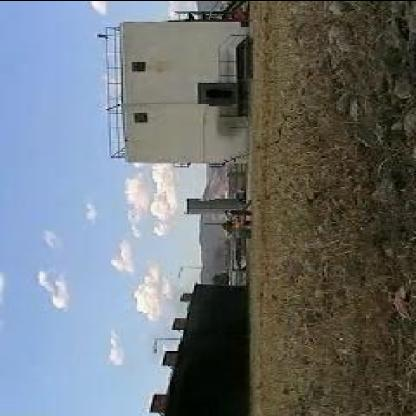-: (209, 232, 231, 264)
foggia-v2-map80-epoch100 - v1 4323: (232, 212, 248, 229)
